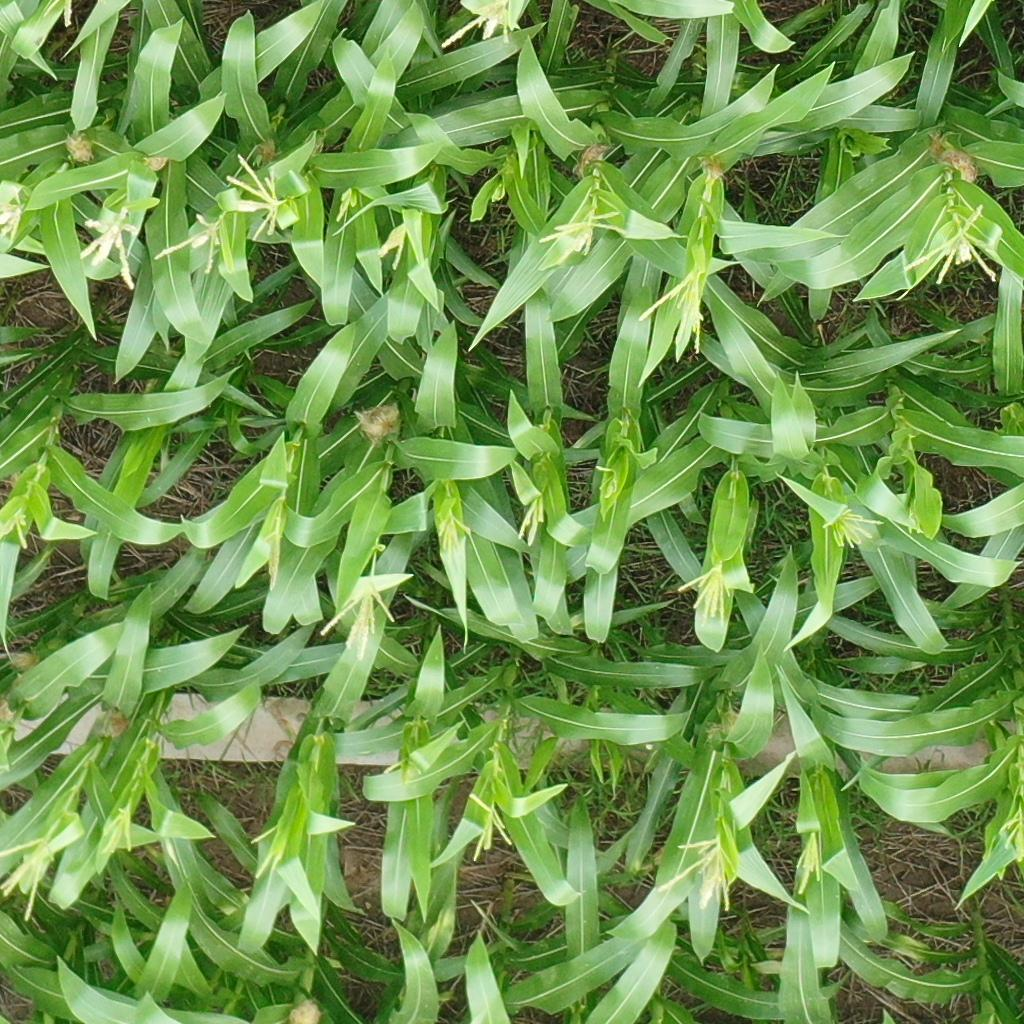Tassel: (903, 202, 998, 289), (654, 835, 743, 913), (636, 265, 709, 356), (320, 583, 396, 663), (1, 831, 61, 924), (226, 153, 286, 244), (78, 206, 140, 290), (154, 210, 226, 276), (536, 209, 626, 255), (676, 564, 735, 631), (439, 1, 514, 51), (463, 791, 513, 863), (255, 511, 288, 590), (826, 505, 884, 549), (246, 824, 288, 881), (792, 827, 826, 897), (96, 805, 139, 859), (514, 498, 547, 552), (995, 802, 1024, 863), (377, 219, 411, 271), (435, 511, 472, 556), (1, 509, 34, 548), (381, 756, 420, 786), (595, 461, 622, 503), (1, 202, 23, 250), (335, 186, 353, 223), (903, 508, 924, 536)
